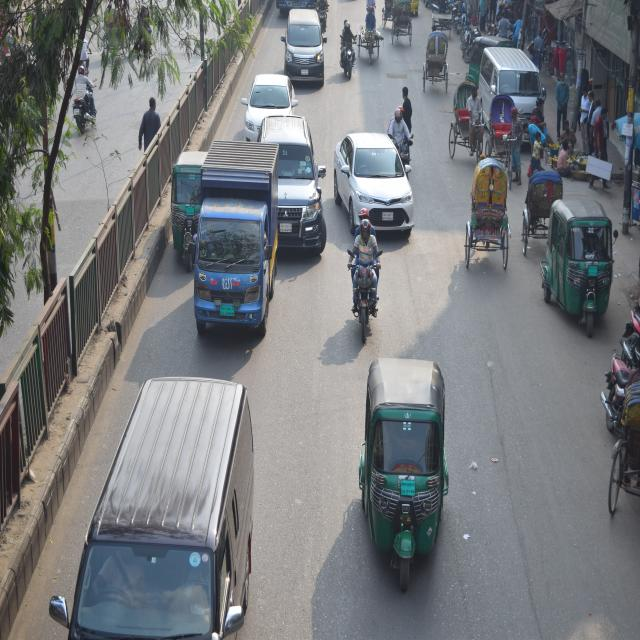car: (260, 101, 332, 253), (332, 132, 414, 246), (281, 5, 332, 86), (238, 72, 289, 152)
microbus: (74, 359, 235, 640), (467, 42, 552, 136)
motorbike: (344, 209, 381, 328), (70, 62, 103, 141), (336, 17, 365, 73)
pickup-van: (193, 129, 277, 336)
